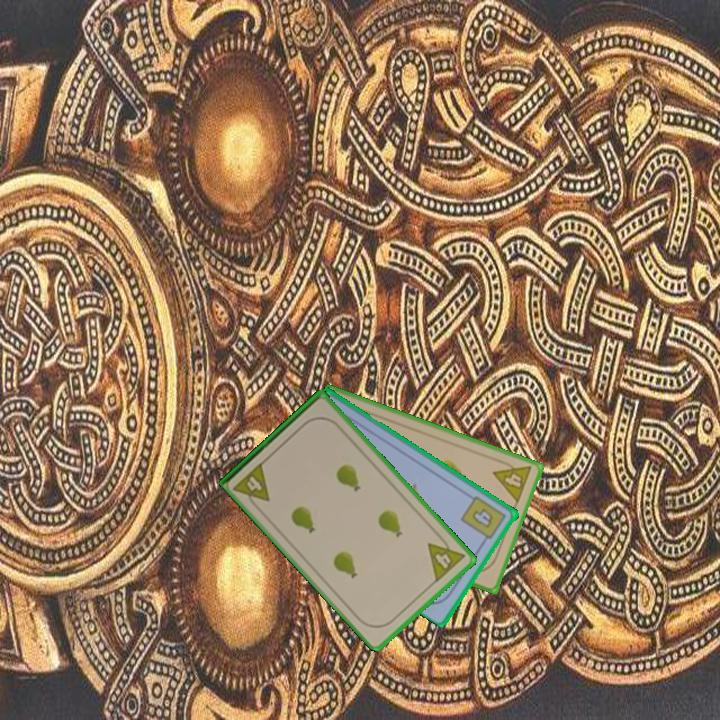4b: (458, 492, 510, 547)
4p: (424, 530, 468, 585), (489, 455, 535, 506), (230, 458, 273, 512)
